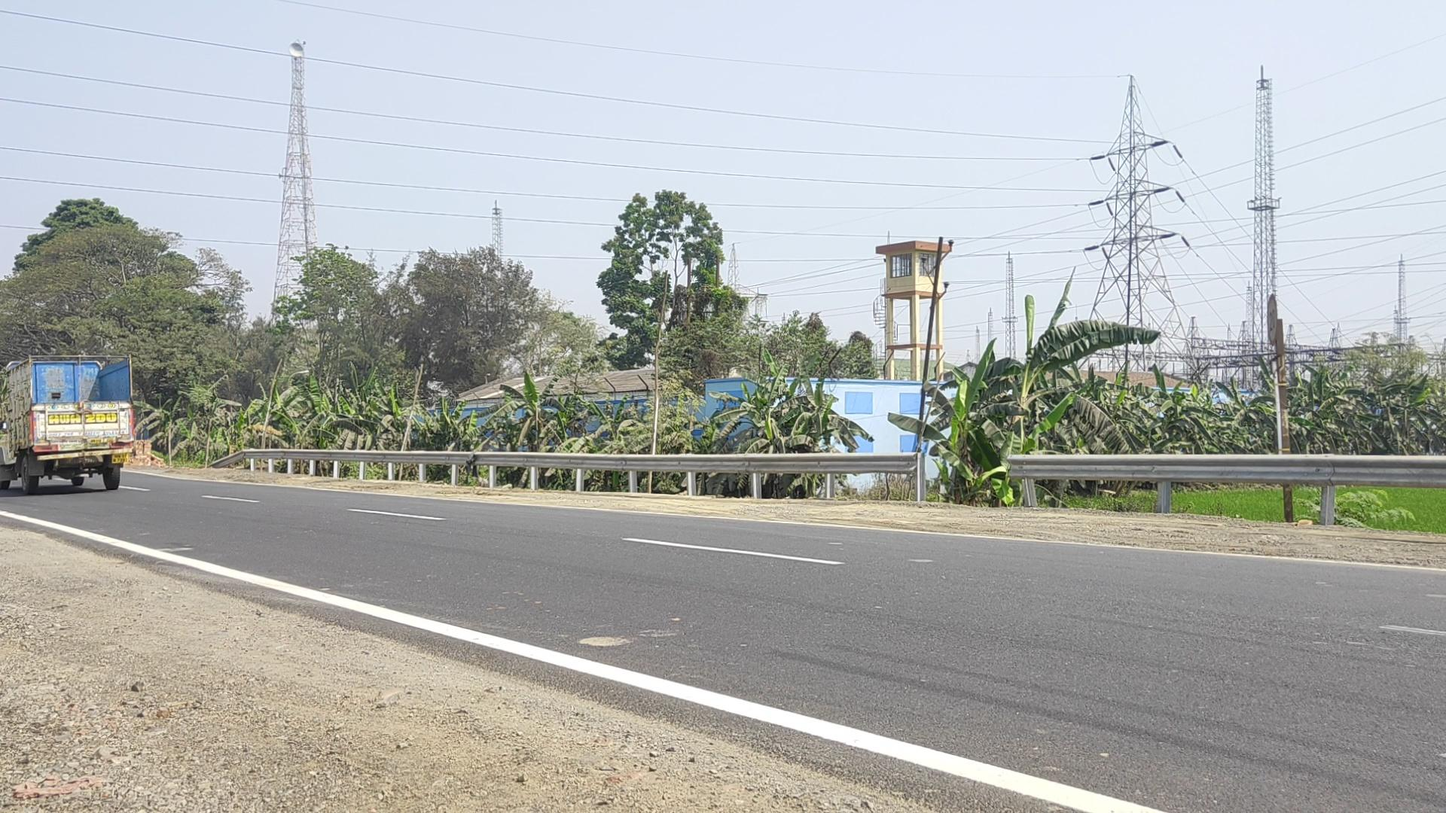van: (1, 354, 136, 496)
